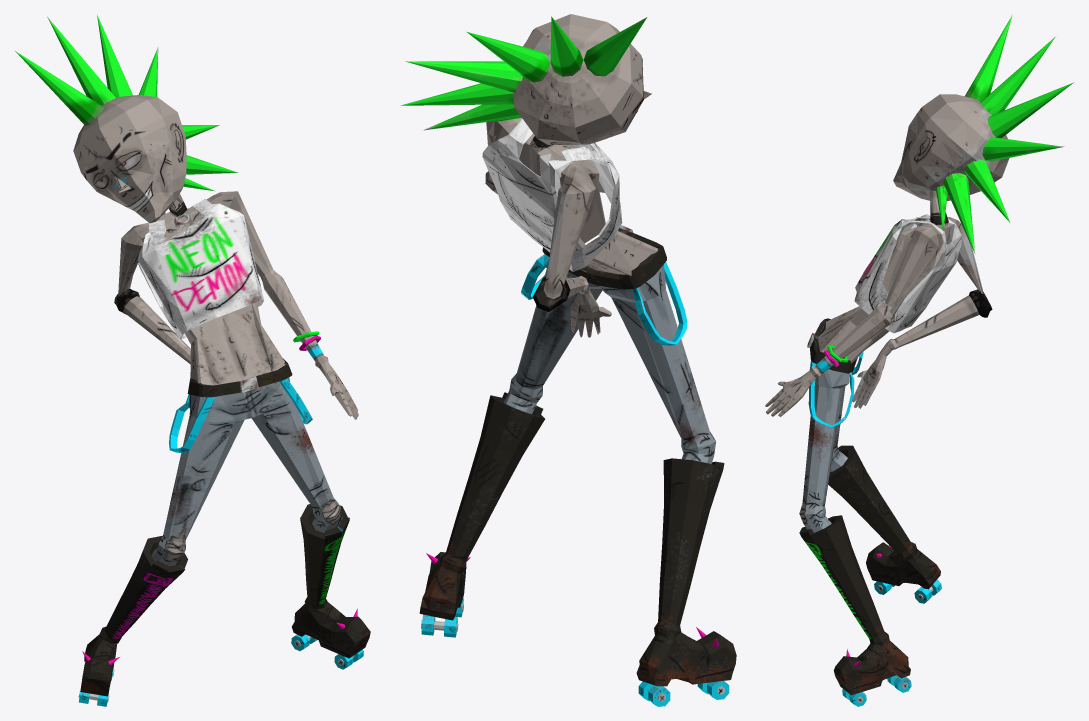
File: punkAnimation_000063.obj
3 renders of one model, left to right at view 1: azimuth 30°, elevation 25°; view 2: azimuth 150°, elevation 25°; view 3: azimuth 270°, elevation 25°, orthographic. The views are drawn at different scales.
Visible parts, largest first — view 1: Cube.004_Cube.003; view 2: Cube.004_Cube.003; view 3: Cube.004_Cube.003.
Boxes of the visible parts, x1=… form: Cube.004_Cube.003: x1=14, y1=14, x2=370, y2=706; Cube.004_Cube.003: x1=400, y1=14, x2=736, y2=706; Cube.004_Cube.003: x1=765, y1=14, x2=1074, y2=706.
Size of the model in its own units: 2.93 by 6.44 by 3.13.
